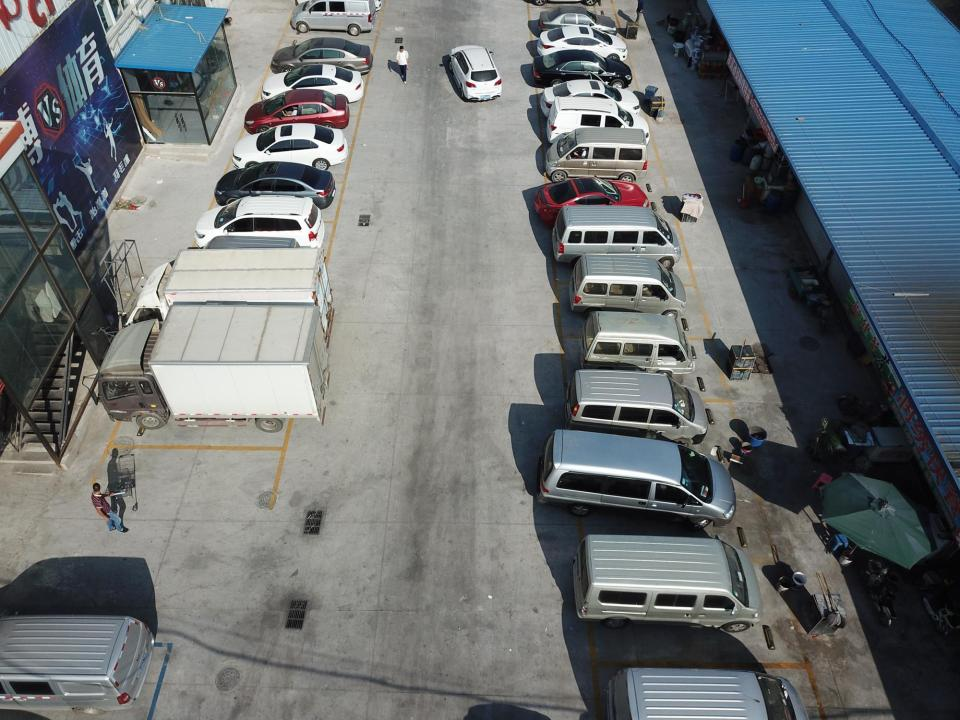car: (213, 163, 339, 212), (227, 122, 353, 171), (534, 175, 649, 226), (241, 91, 352, 137), (255, 64, 364, 105), (269, 35, 378, 76), (530, 48, 635, 89), (534, 23, 628, 66), (445, 42, 504, 102), (538, 4, 617, 40)
van: (82, 299, 329, 434), (128, 247, 335, 358), (537, 428, 737, 531), (568, 532, 763, 636), (0, 613, 154, 716), (598, 663, 818, 720), (563, 368, 711, 451), (576, 309, 700, 382), (568, 251, 692, 324), (552, 207, 684, 270), (172, 234, 305, 296), (541, 123, 649, 188), (548, 95, 652, 152), (285, 0, 377, 37)
